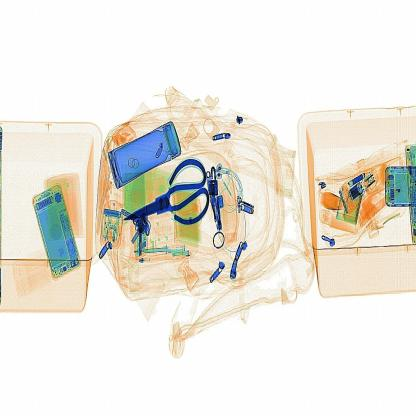gun: (124, 148, 224, 242)
